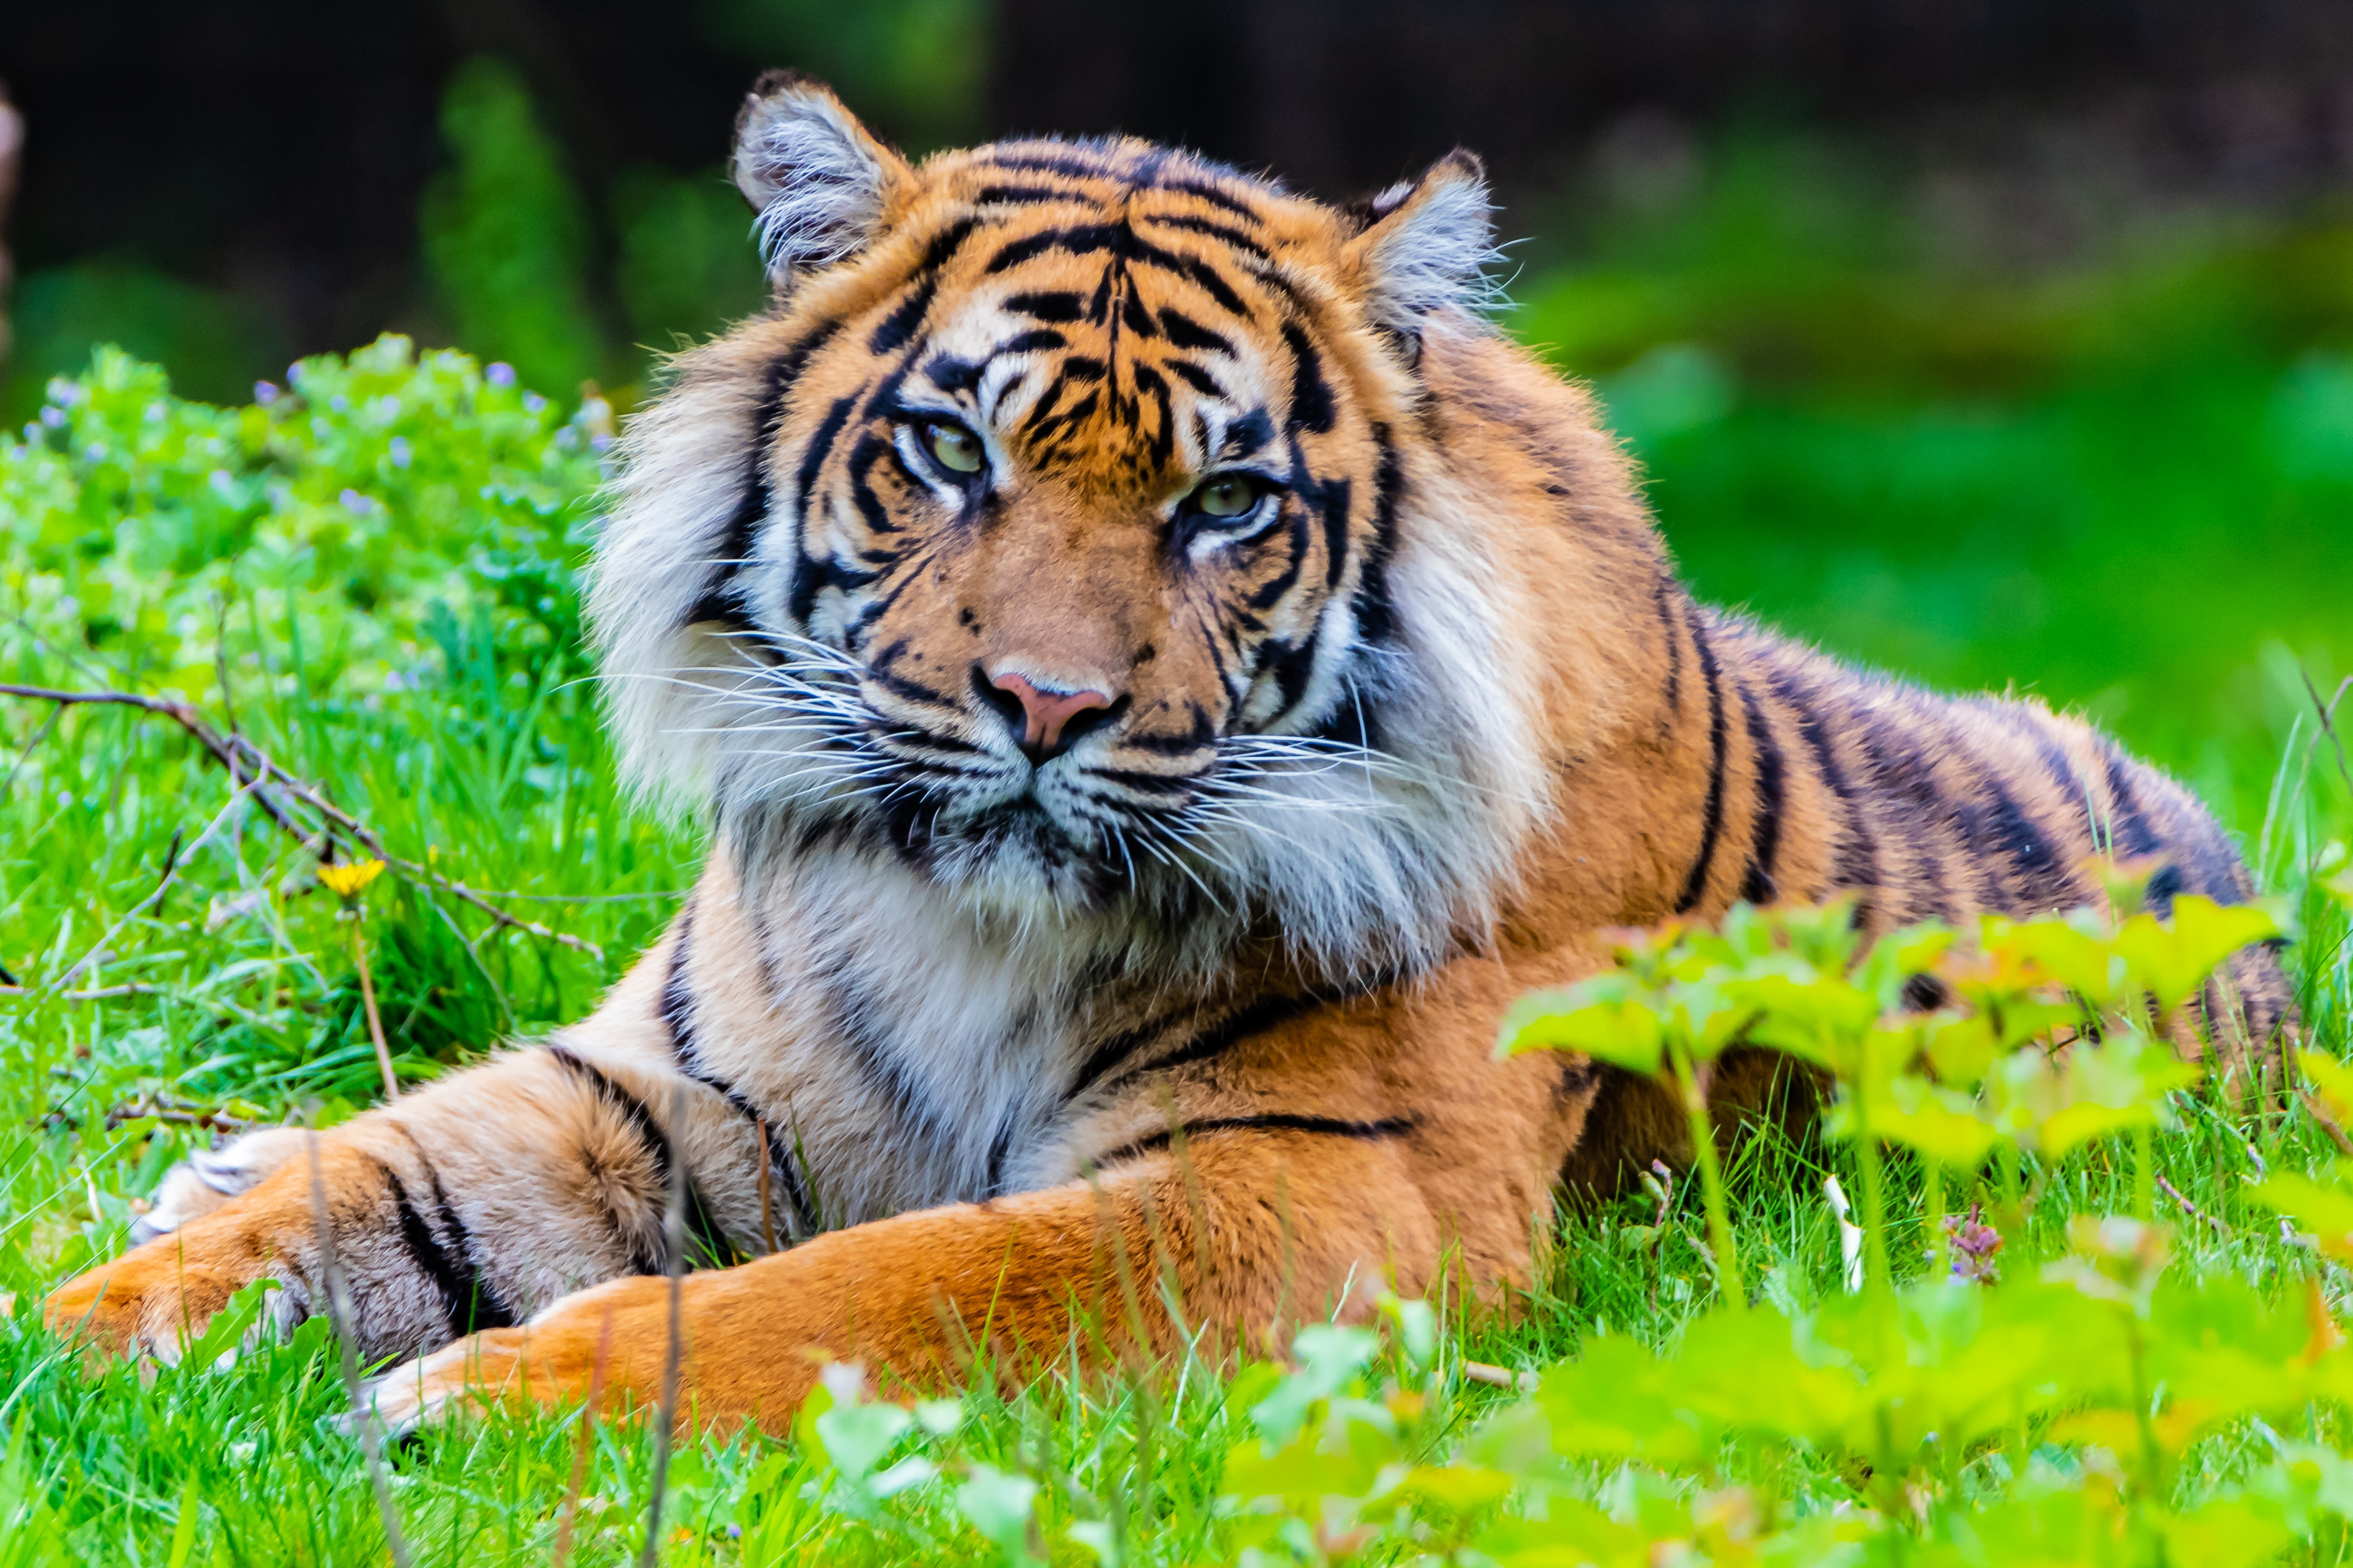tiger: (436, 100, 2185, 1302)
